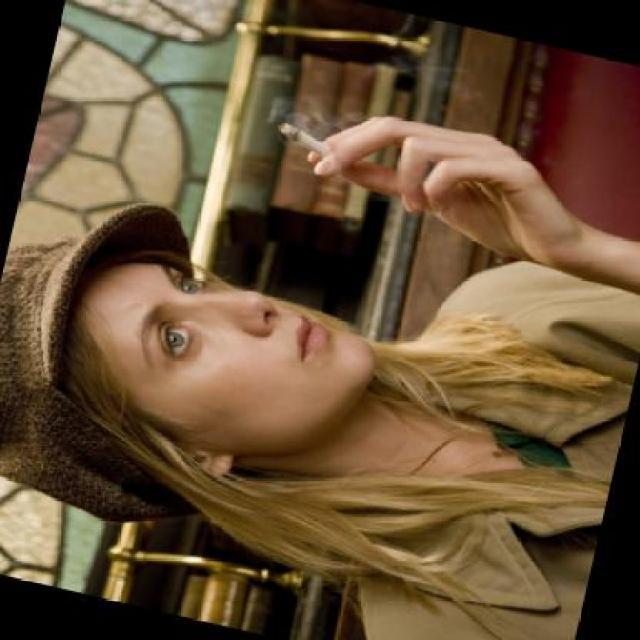cigarette: (270, 116, 338, 161)
